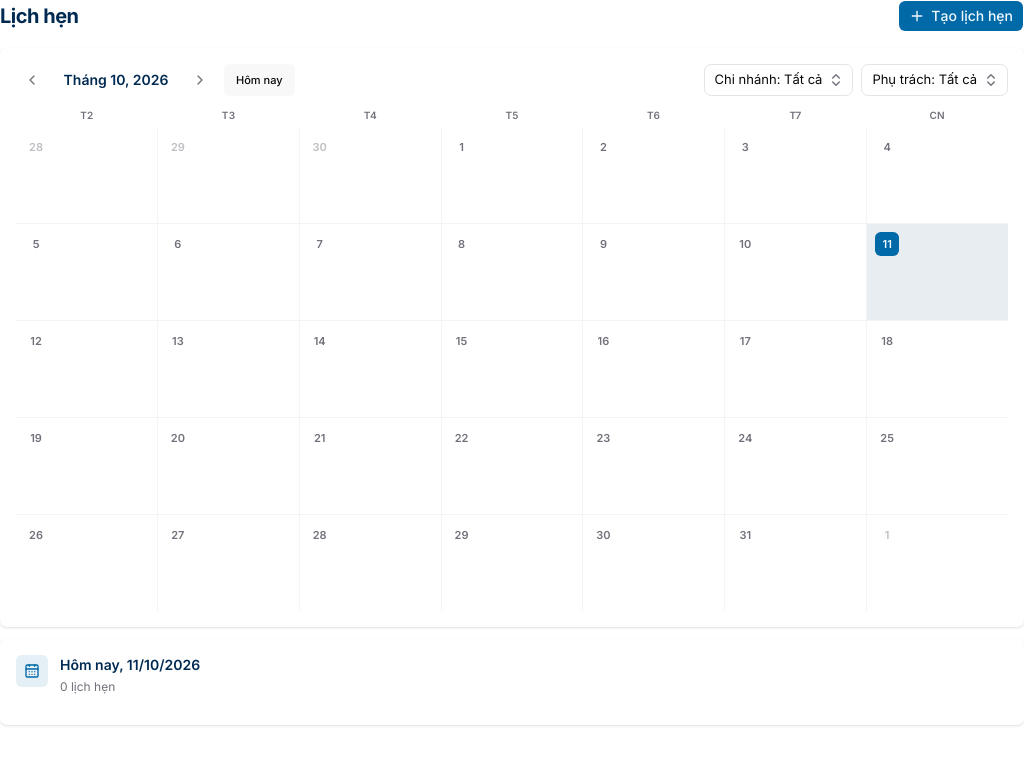
Test: AppointmentCalendar › quản trị viên không chọn khách và chi nhánh → lỗi tại ô, không gửi
Step 1. Click the button "Tạo lịch hẹn" → [961, 16], box [898,0,1023,32]
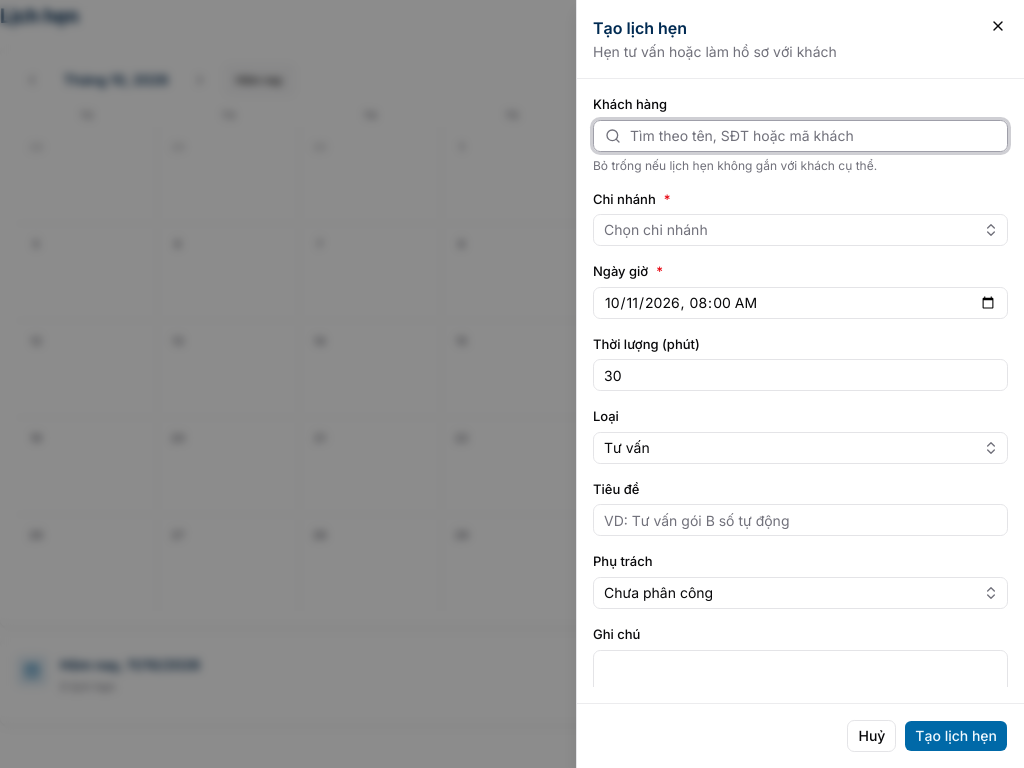
Step 2. Replace the text in the field labelled "Ngày giờ *" with "2026-10-21T08:30" → [800, 303], box [593,287,1008,319]
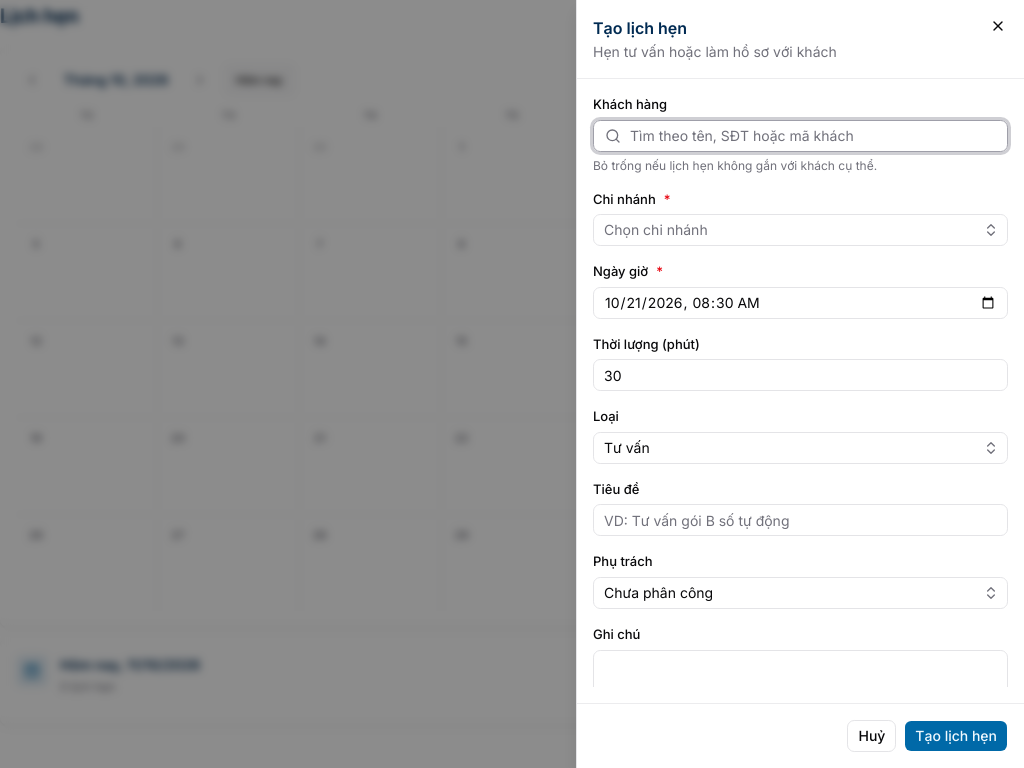
Step 3. Click the button "Tạo lịch hẹn" → [956, 736], box [904,720,1008,752]
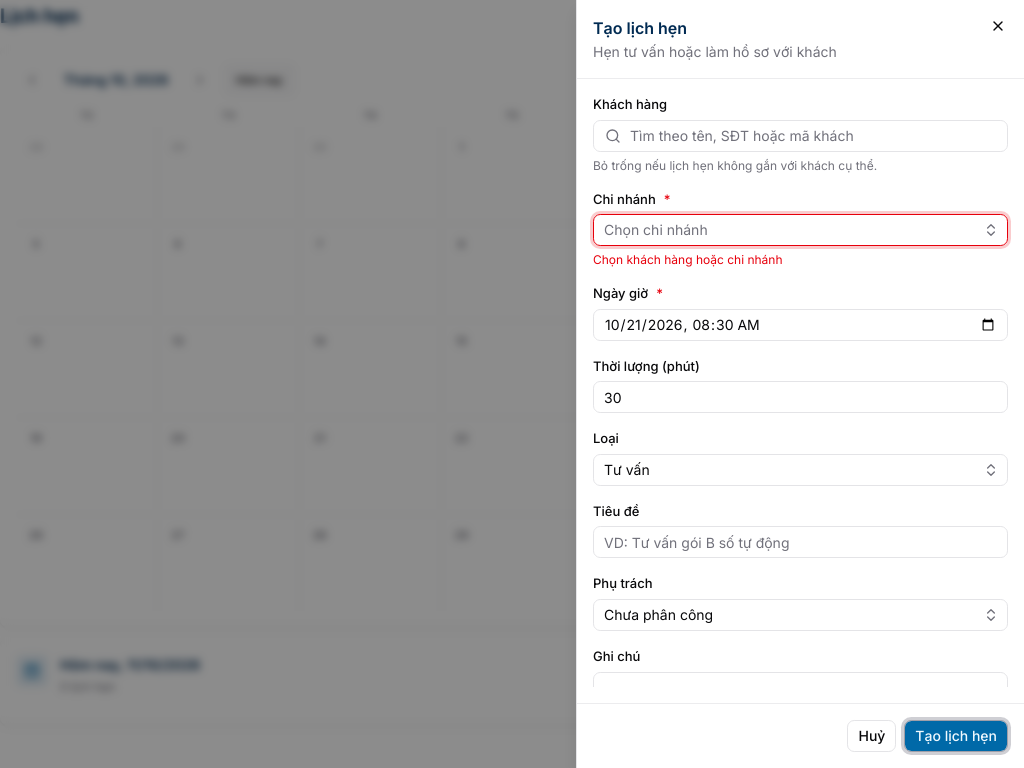
Check: the text "Chọn khách hàng hoặc chi nhánh" is shown, box [593,252,782,267]
